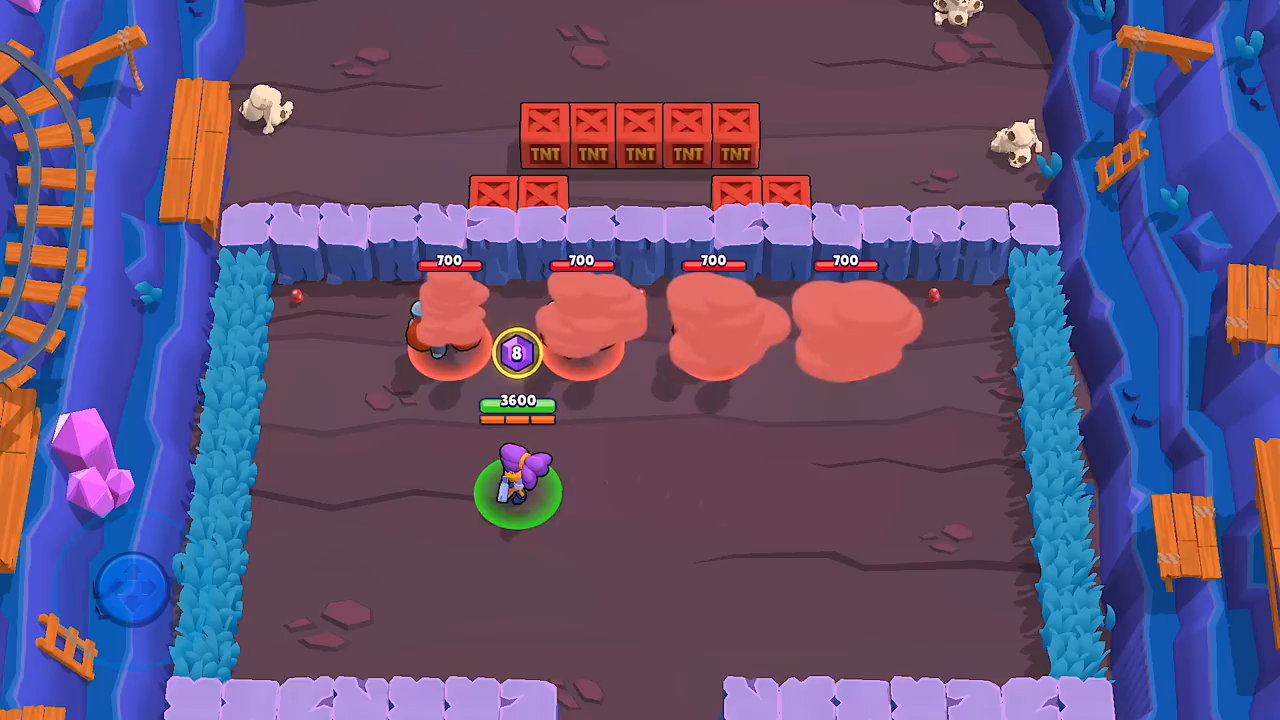move_stick: (98, 555, 172, 614)
red: (804, 255, 907, 373), (408, 249, 495, 377), (677, 251, 765, 376), (543, 254, 630, 370)
